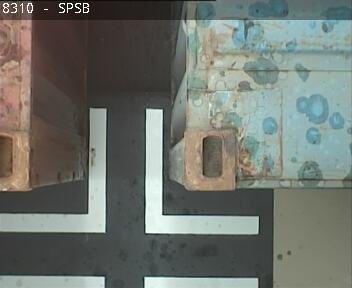groundmarker_1: (1, 109, 257, 234)
